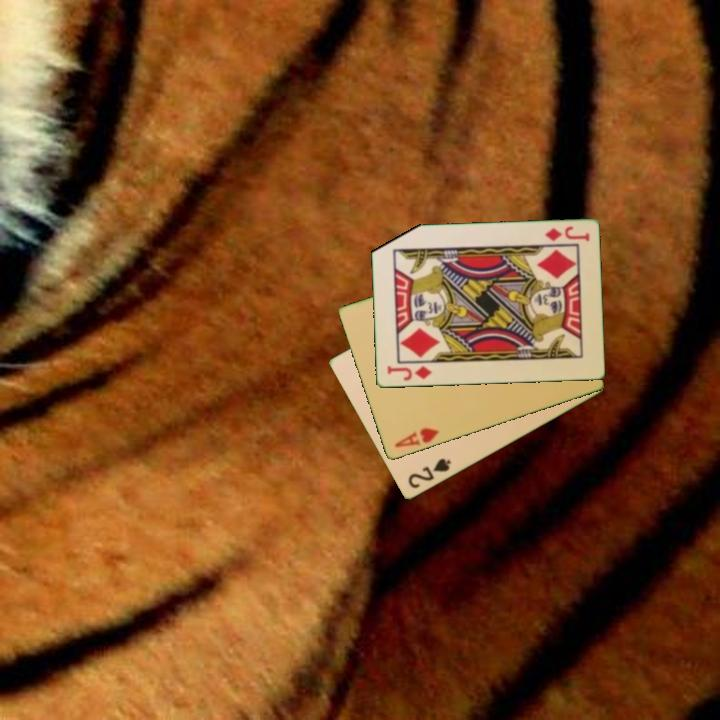2s: (404, 455, 454, 492)
Ah: (391, 424, 442, 451)
Jd: (383, 363, 435, 384), (541, 223, 592, 244)
